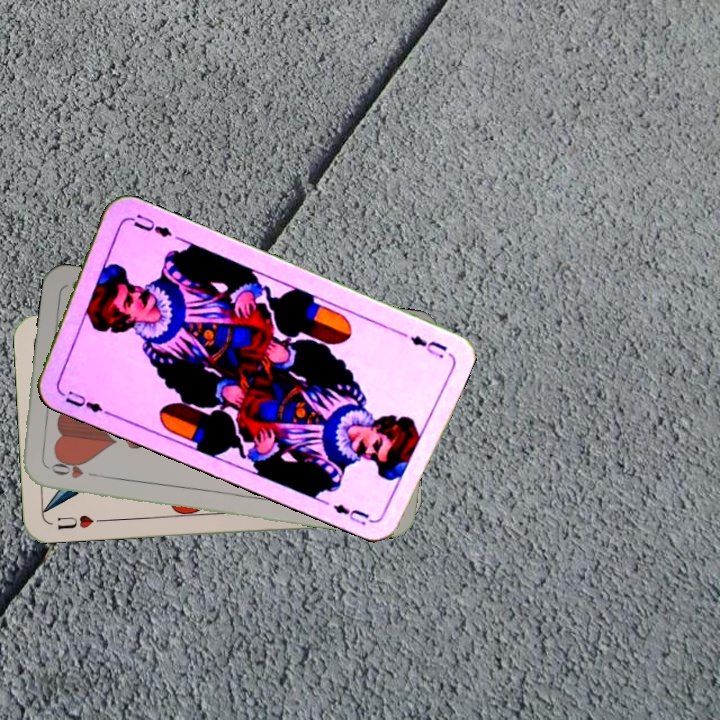EU: (55, 386, 111, 417), (406, 331, 450, 360)
HO: (43, 458, 102, 481)
HU: (53, 510, 107, 532)
